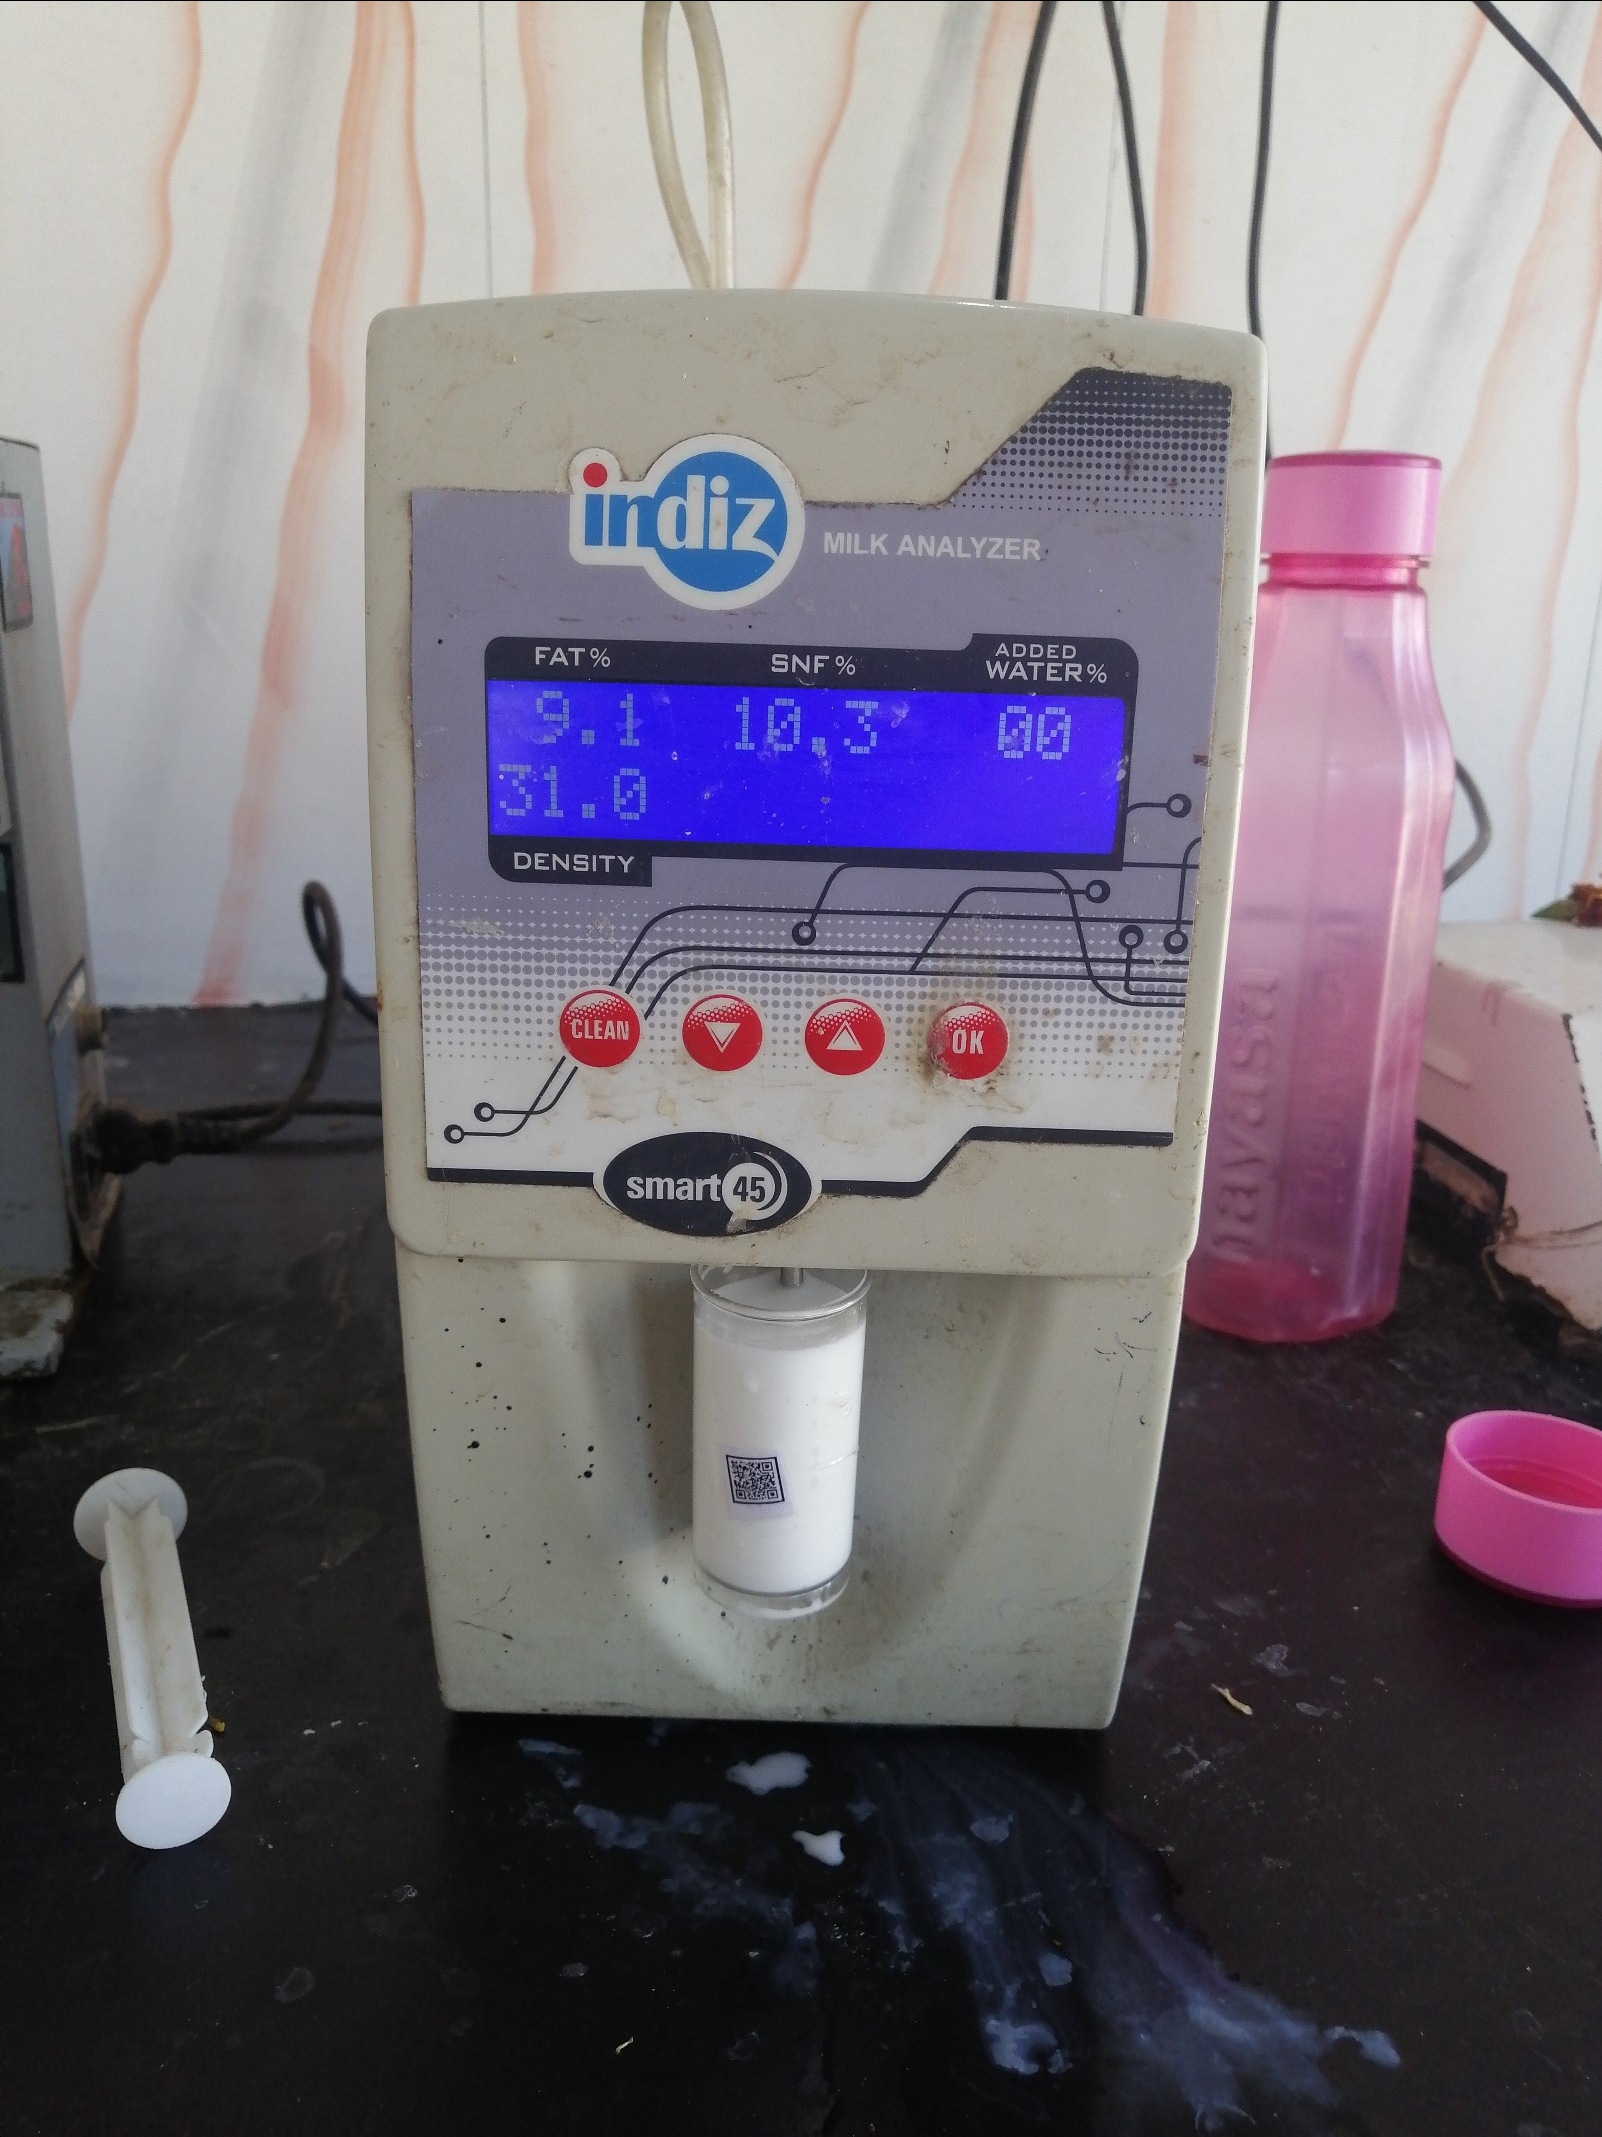lcd: (480, 643, 1139, 875)
qr: (722, 1452, 793, 1523)
